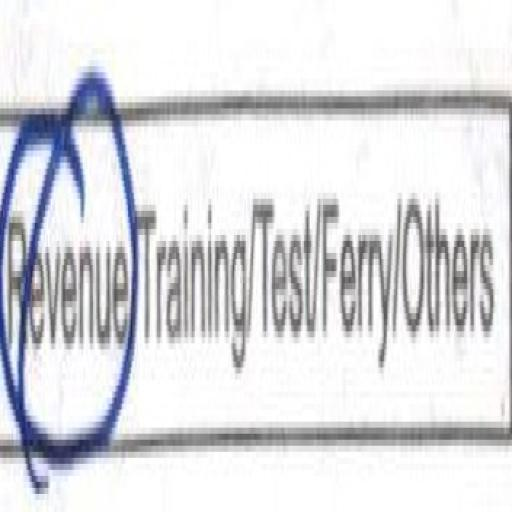check: (0, 42, 136, 504)
